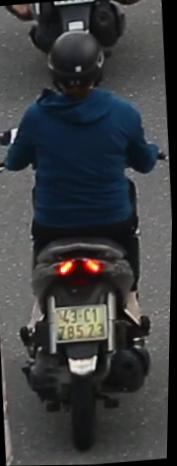LP: (47, 299, 112, 347)
helmet: (44, 27, 109, 103)
